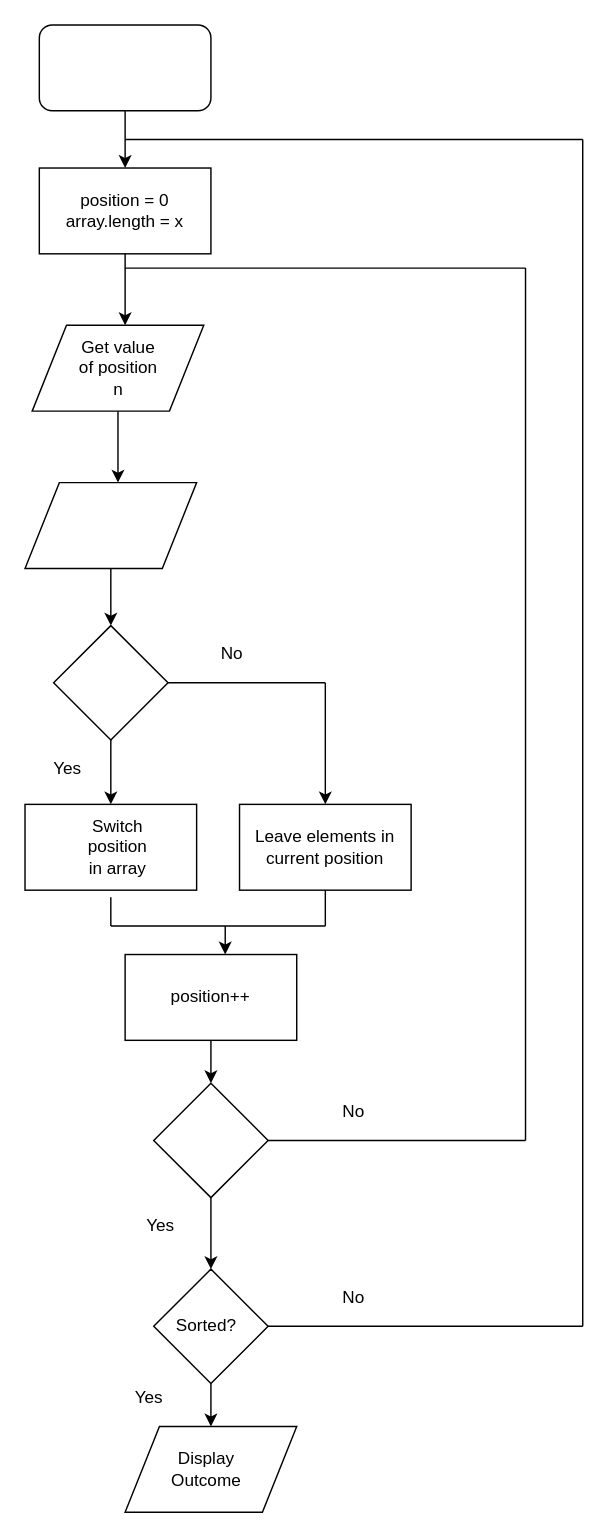
Some shapes in this 609 by 1537 pixel diagram are drawn without their labels. The centre of each missing label's shape, as x and y in pixels:
"Begin" goes at (124,67).
"End of Array?" goes at (210,1140).
"Get value of position n + 1" goes at (110,524).
"if (n > n+1)" goes at (110,682).
